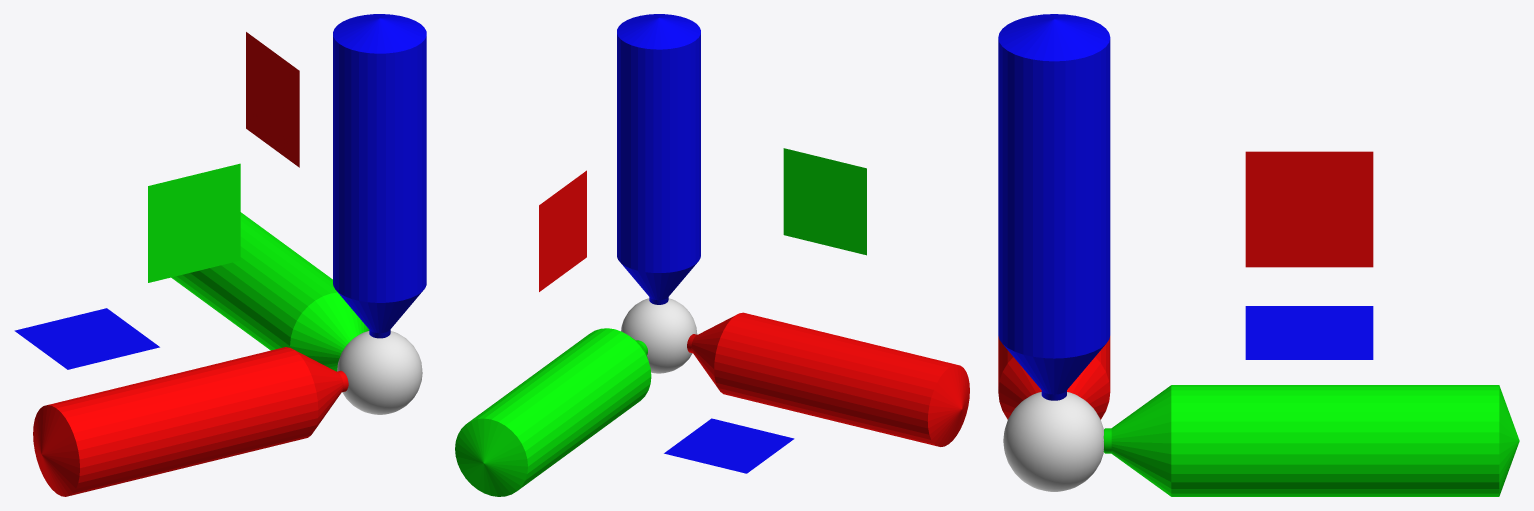
Rendered from gizmo-translation.fbx.
3 renders of one model, left to right at view 1: azimuth 30°, elevation 25°; view 2: azimuth 150°, elevation 25°; view 3: azimuth 270°, elevation 25°, orthographic. The views are drawn at different scales.
Visible parts, largest first — view 1: ArrowZSelection, ArrowXSelection, ArrowYSelection, PlaneY, CenterSelection, PlaneX, PlaneZ; view 2: ArrowZSelection, ArrowXSelection, ArrowYSelection, PlaneY, PlaneX, PlaneZ, CenterSelection; view 3: ArrowYSelection, ArrowZSelection, PlaneX, CenterSelection, PlaneZ, ArrowXSelection.
Part boxes in pixels (x1,y1,x2,y2): ArrowZSelection: [333, 14, 426, 333]; ArrowXSelection: [33, 347, 343, 496]; ArrowYSelection: [171, 212, 369, 371]; PlaneY: [148, 163, 240, 282]; CenterSelection: [337, 331, 422, 414]; PlaneX: [246, 32, 299, 167]; PlaneZ: [14, 308, 159, 369]; ArrowZSelection: [617, 14, 700, 300]; ArrowXSelection: [691, 312, 969, 446]; ArrowYSelection: [455, 328, 651, 496]; PlaneY: [783, 148, 866, 255]; PlaneX: [539, 170, 586, 291]; PlaneZ: [664, 418, 794, 473]; CenterSelection: [621, 298, 697, 373]; ArrowYSelection: [1111, 385, 1519, 496]; ArrowZSelection: [998, 14, 1110, 394]; PlaneX: [1245, 151, 1373, 267]; CenterSelection: [1003, 392, 1103, 491]; PlaneZ: [1245, 306, 1373, 359]; ArrowXSelection: [998, 336, 1110, 419].
Size of the model in its own units: 20428 by 20428 by 20428.
